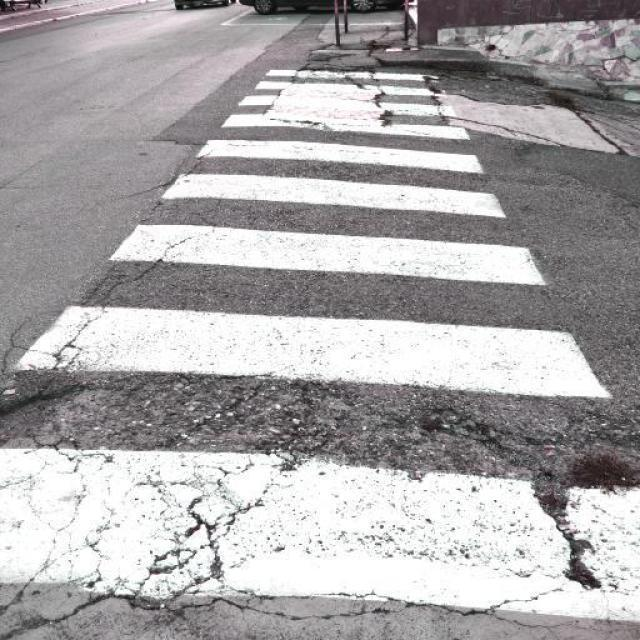crosswalk: (0, 67, 640, 627)
